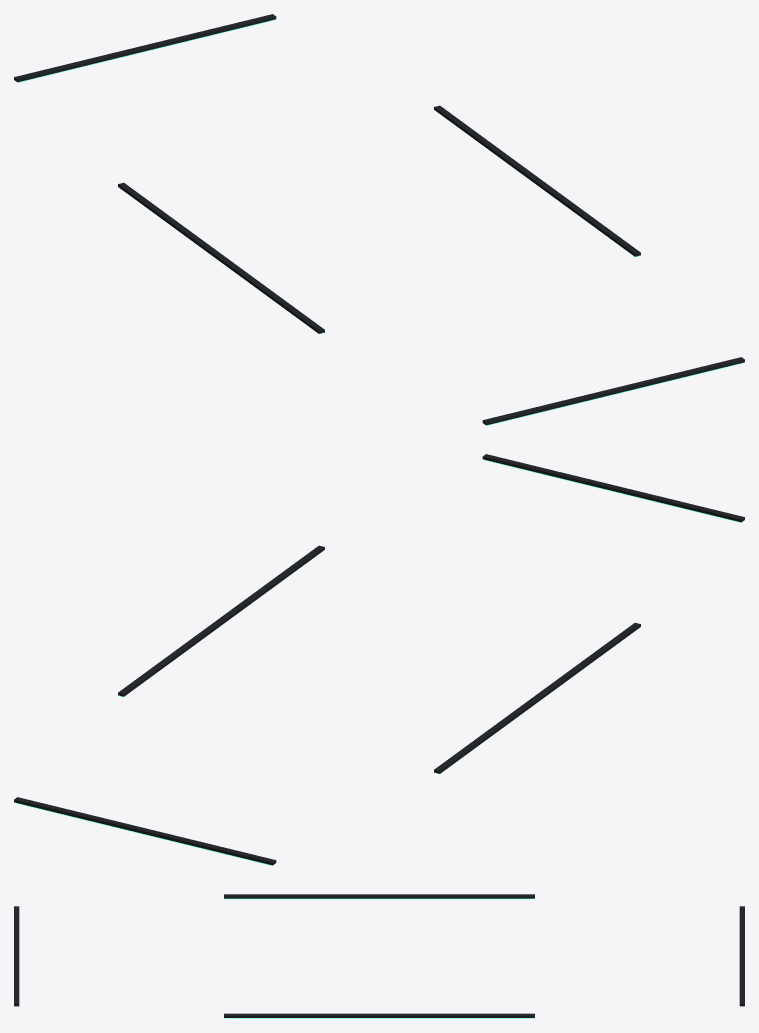
Rendered from underglow_green.glb.
The picture shows the model from 3 angles, top to bottom: view 1: azimuth 30°, elevation 25°; view 2: azimuth 150°, elevation 25°; view 3: azimuth 270°, elevation 25°; orthographic projection. The views are drawn at different scales.
Visible parts, largest first — view 1: model; view 2: model; view 3: model.
Part boxes in pixels (box(x1,y1,x2,y2)): model: box(14, 14, 744, 425); model: box(14, 454, 744, 865); model: box(14, 894, 744, 1018).
Size of the model in its own units: 1.49 by 0.018 by 3.78.
Materials: 2 (1 with a texture image).
